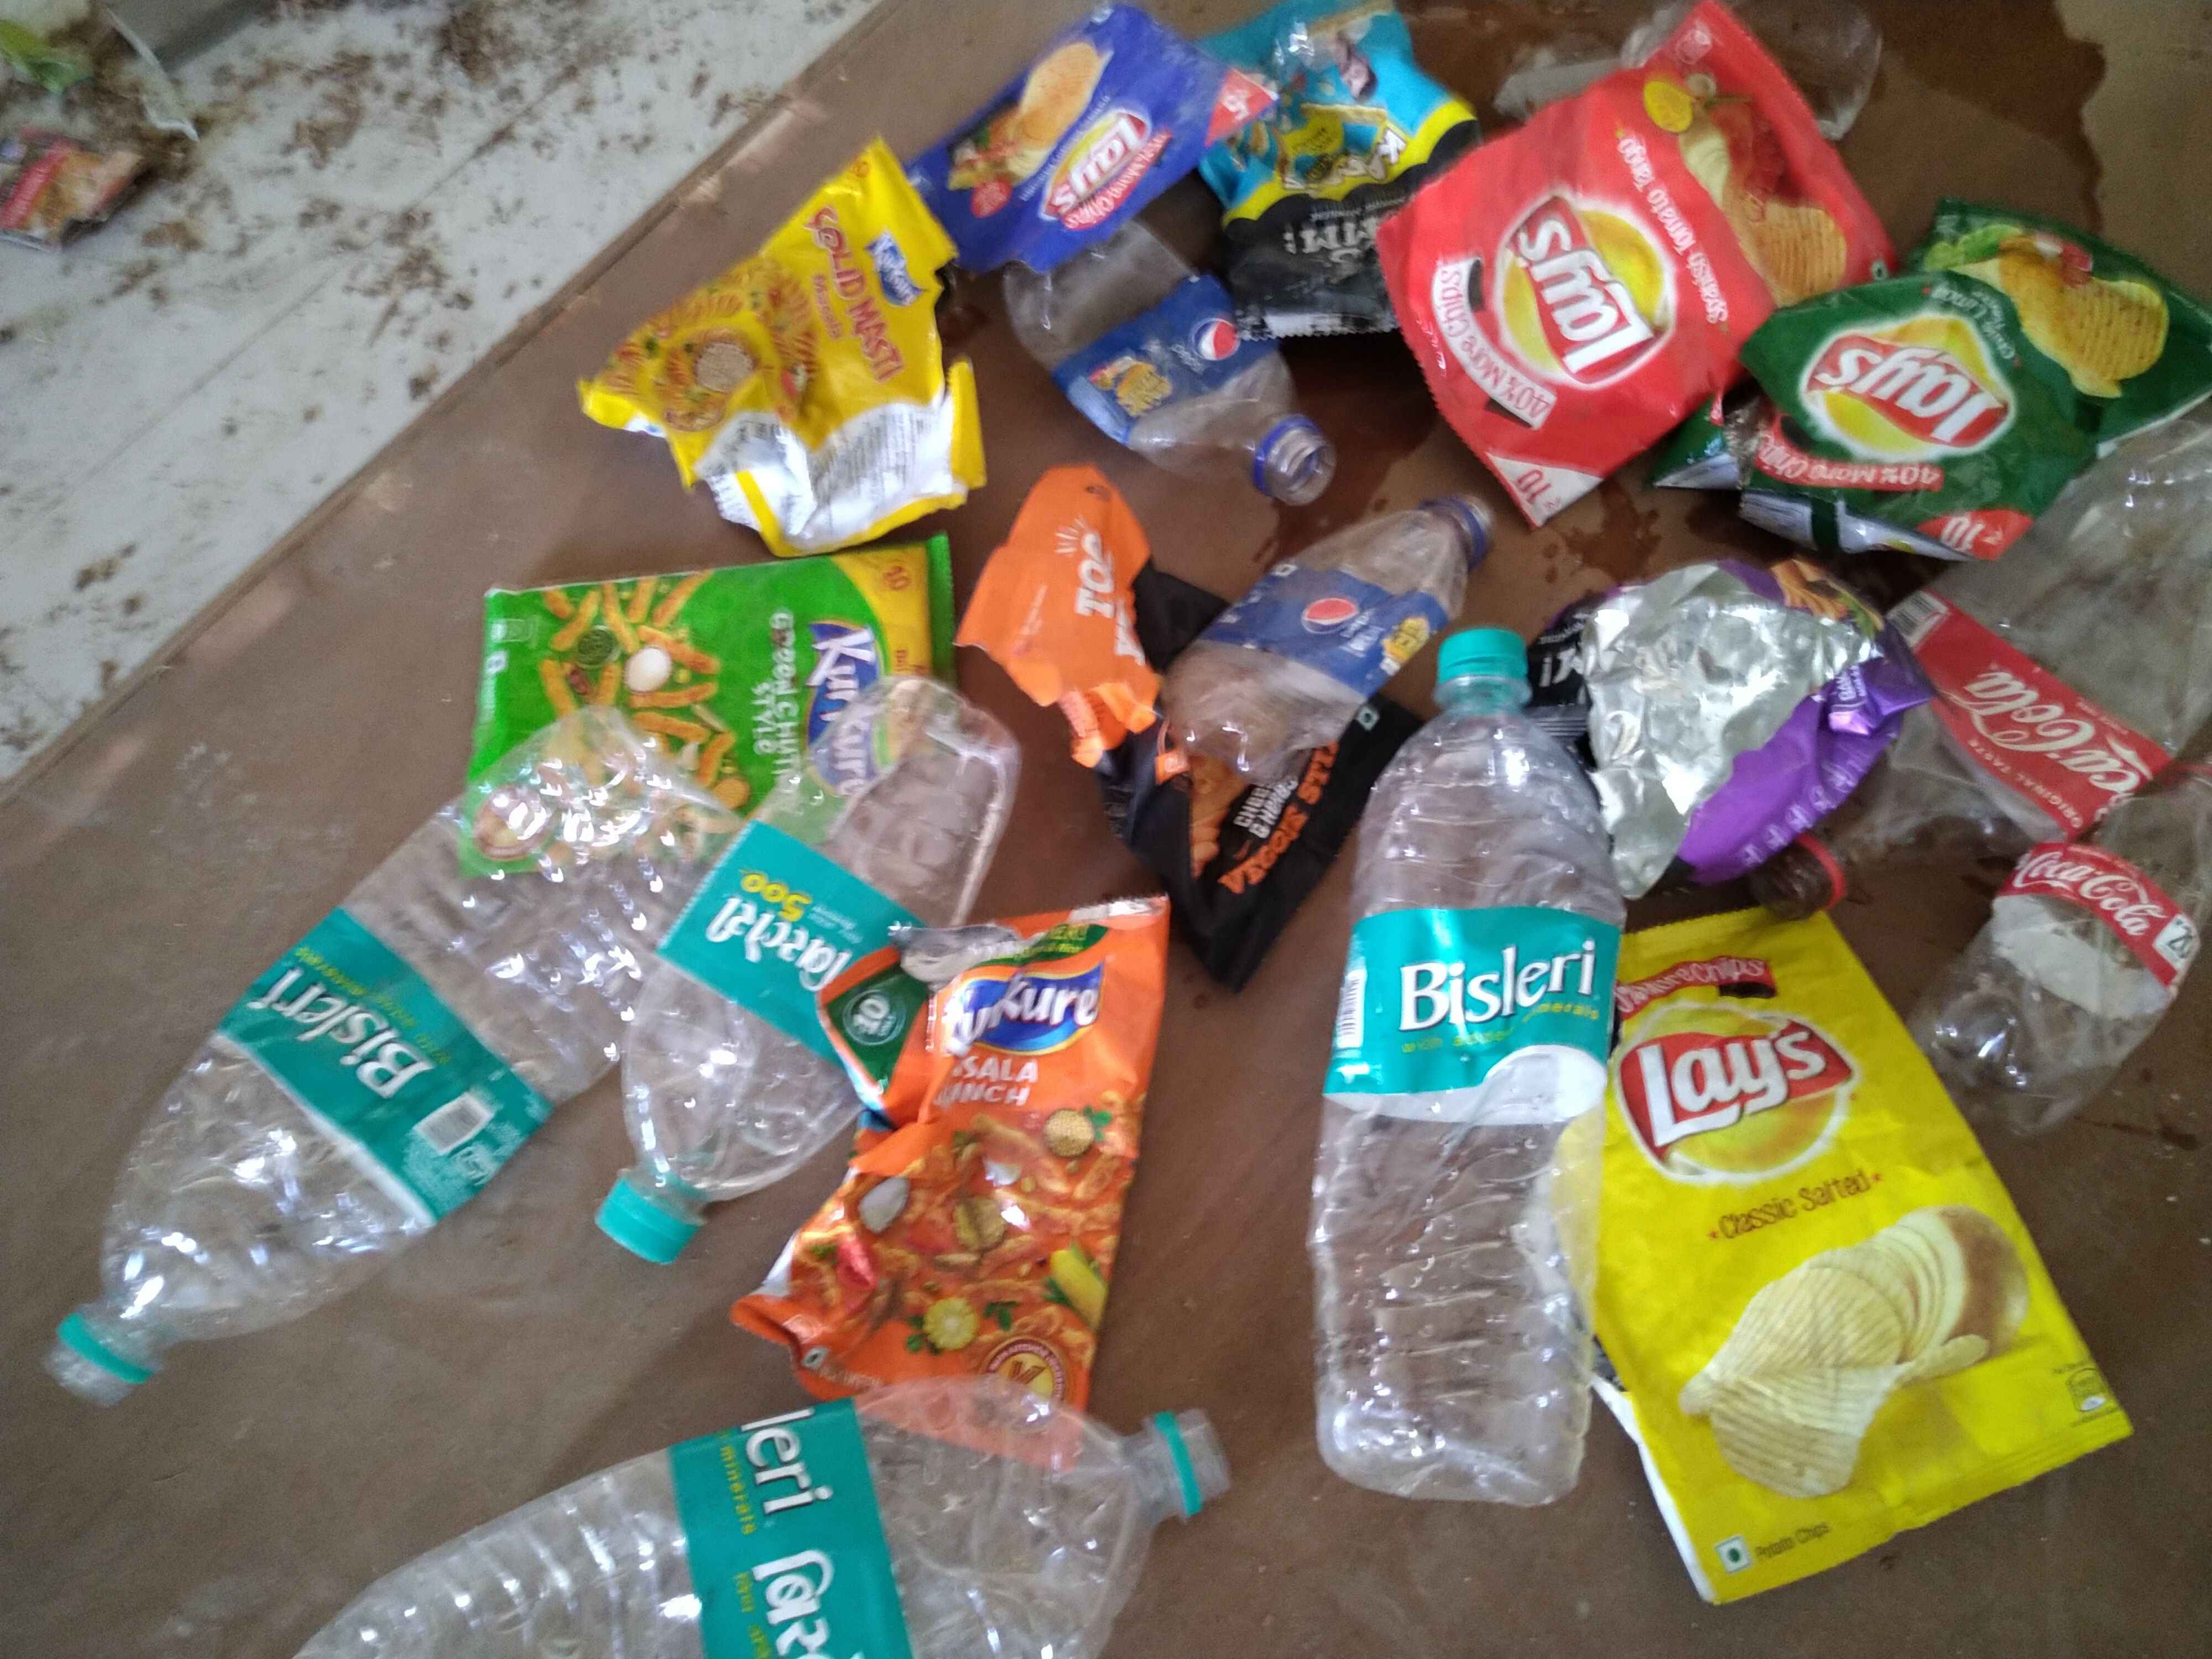Bisleri: (263, 929, 481, 1168), (1350, 908, 1601, 1056), (732, 1441, 885, 1656), (698, 849, 892, 1011)
Coca-Cola: (1928, 619, 2182, 817), (2006, 826, 2209, 974)
Lays: (1477, 179, 1707, 406), (1595, 993, 1888, 1155), (1777, 315, 2059, 434), (1035, 105, 1167, 237)
kurkure: (900, 951, 1122, 1054), (794, 605, 887, 810), (864, 230, 927, 312)
pepsi: (1122, 303, 1249, 408), (1254, 577, 1420, 645)
tooyumm: (1054, 521, 1167, 640), (1284, 195, 1404, 275), (1541, 622, 1641, 697)
